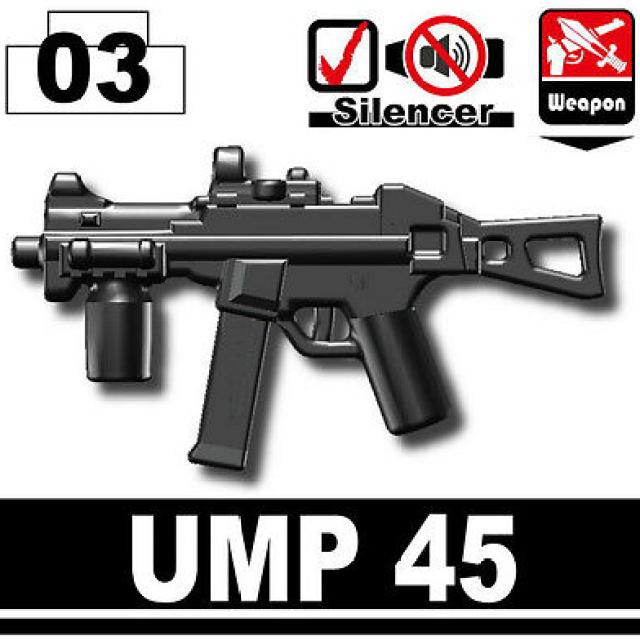Gun: (0, 113, 609, 457)
